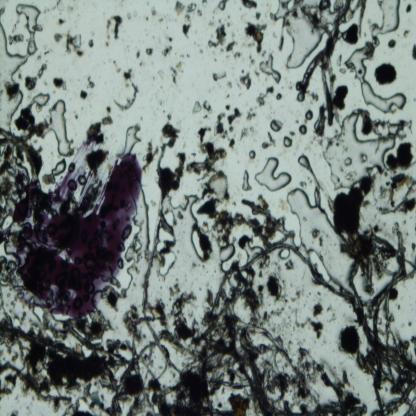Air bubble: (323, 114, 398, 182), (286, 188, 340, 272), (347, 45, 406, 115), (272, 0, 322, 71), (0, 24, 26, 134), (128, 186, 151, 267), (43, 99, 74, 158), (370, 2, 402, 44), (254, 157, 292, 192), (16, 3, 39, 57), (307, 253, 332, 283), (121, 125, 144, 157), (214, 240, 234, 276), (258, 54, 282, 84), (189, 228, 205, 262), (156, 251, 178, 275), (155, 228, 176, 250), (242, 242, 261, 262), (298, 153, 314, 173), (31, 92, 50, 108), (241, 171, 254, 193), (163, 208, 176, 226), (53, 160, 67, 175), (269, 117, 281, 132), (279, 248, 291, 260), (284, 134, 294, 148), (304, 110, 314, 121), (248, 148, 257, 160), (299, 123, 307, 135), (218, 1, 227, 10)
Background material: (103, 314, 369, 416), (0, 275, 154, 413), (0, 135, 33, 306), (332, 175, 376, 233), (154, 124, 186, 196), (166, 286, 198, 340), (378, 175, 416, 217), (184, 144, 230, 173), (82, 116, 114, 148), (200, 171, 232, 202), (384, 142, 414, 173), (215, 107, 238, 147), (245, 21, 268, 57), (266, 271, 288, 305), (338, 323, 361, 354), (291, 318, 325, 338), (374, 60, 400, 86), (103, 14, 124, 46), (141, 139, 160, 172), (225, 392, 253, 414), (86, 148, 108, 176), (257, 308, 285, 326), (207, 26, 228, 50), (183, 3, 197, 39), (65, 30, 84, 56), (192, 99, 214, 118), (255, 86, 274, 107), (335, 86, 349, 114), (104, 287, 119, 313), (4, 80, 21, 102), (197, 126, 213, 146), (346, 24, 360, 45), (239, 70, 252, 90), (262, 131, 276, 149), (24, 73, 37, 92), (8, 31, 24, 46), (51, 77, 67, 92), (210, 70, 228, 83), (172, 63, 182, 86), (336, 53, 346, 76), (37, 62, 48, 82), (312, 229, 323, 247), (313, 300, 324, 316), (242, 0, 258, 11), (174, 1, 185, 16), (86, 75, 96, 91), (240, 127, 250, 142), (160, 46, 172, 58), (52, 32, 63, 45), (112, 58, 122, 72), (245, 110, 256, 122), (55, 0, 65, 13), (32, 22, 43, 33), (124, 68, 133, 81), (165, 110, 173, 124), (226, 42, 238, 51), (388, 38, 398, 48), (79, 89, 88, 100), (134, 49, 142, 61), (410, 45, 416, 60), (233, 51, 242, 60), (254, 11, 262, 21), (146, 46, 154, 56), (405, 3, 412, 14), (57, 17, 66, 25), (86, 40, 94, 49), (404, 29, 410, 40), (151, 6, 156, 18), (276, 92, 282, 100), (107, 106, 112, 114)
Cellulose filter fibre: (343, 232, 416, 416), (205, 242, 362, 318), (141, 197, 177, 372), (320, 1, 352, 124), (0, 365, 72, 403), (300, 50, 324, 96), (114, 84, 139, 112)
Fragment: (195, 197, 218, 217)
Pen: (18, 153, 142, 316)
